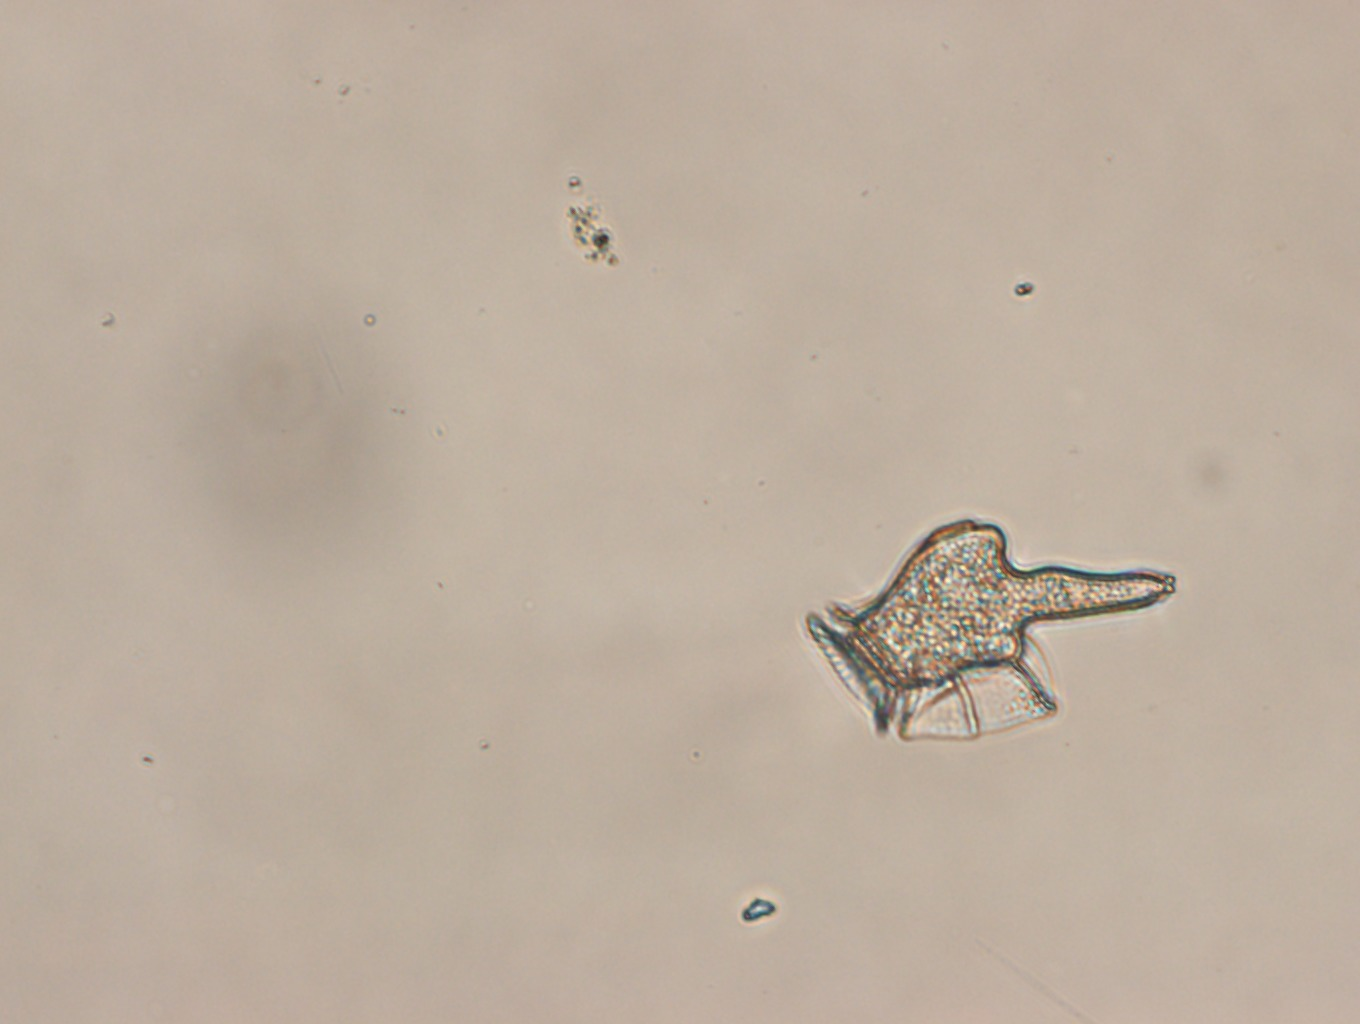dinophysis caudata: (803, 517, 1176, 744)
